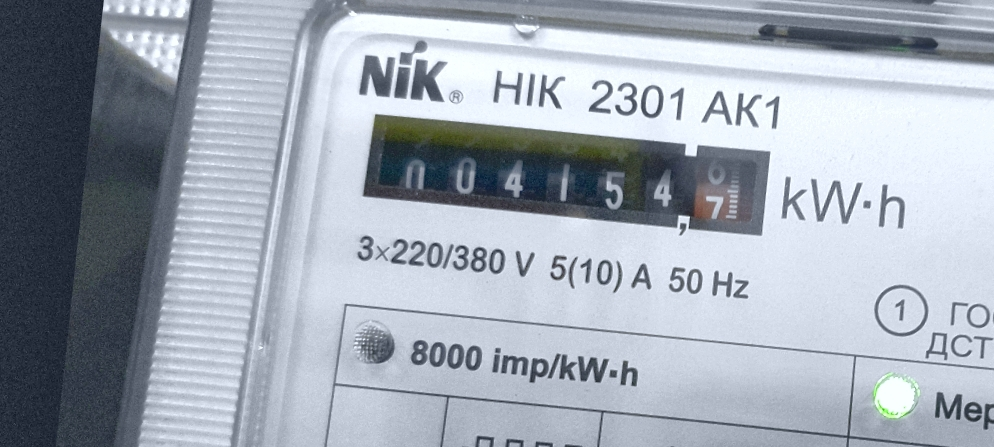0: (451, 153, 478, 196), (402, 153, 428, 190)
1: (555, 160, 573, 203)
4: (500, 156, 527, 199), (650, 163, 675, 209)
5: (600, 165, 629, 211)
6: (704, 154, 729, 186)
7: (701, 190, 725, 221)
screen: (346, 93, 789, 254)
